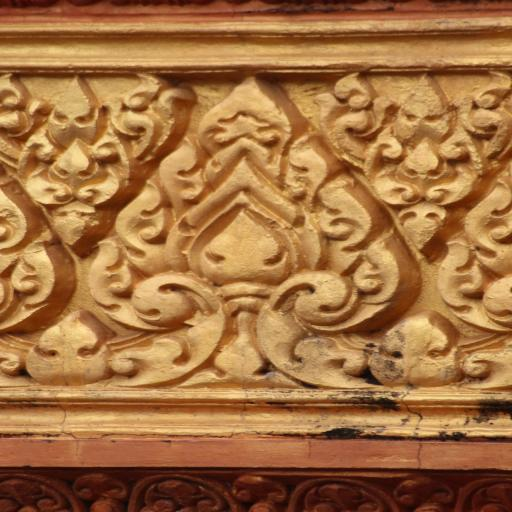la: (100, 83, 404, 393), (12, 69, 185, 247), (321, 74, 500, 237), (449, 176, 512, 343), (0, 184, 57, 324), (374, 309, 470, 390), (20, 317, 109, 390)
